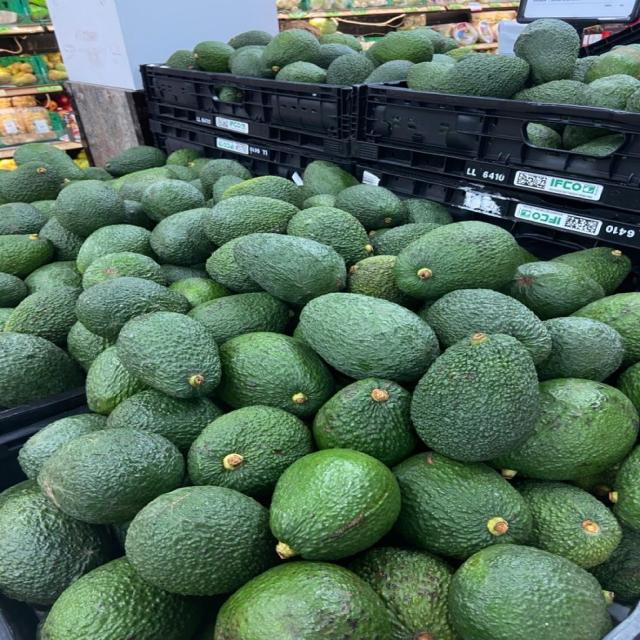avocado: (126, 487, 277, 595), (412, 334, 539, 461), (449, 545, 611, 639), (492, 379, 638, 480), (394, 452, 531, 559), (270, 449, 399, 560), (212, 562, 392, 639), (39, 428, 184, 523), (0, 485, 113, 604), (42, 558, 201, 639), (300, 293, 439, 382), (188, 406, 313, 497), (348, 547, 457, 639), (218, 333, 333, 417), (395, 221, 518, 299), (425, 290, 551, 363), (517, 481, 621, 568), (314, 379, 416, 466), (117, 312, 220, 397), (234, 233, 346, 305), (76, 277, 190, 339), (108, 390, 221, 452), (0, 332, 84, 407), (18, 413, 106, 479), (506, 262, 604, 319), (537, 317, 623, 381), (188, 293, 290, 345), (287, 207, 373, 266), (203, 196, 299, 246), (574, 293, 639, 365), (5, 286, 81, 345), (514, 19, 579, 84), (86, 346, 145, 414), (439, 54, 529, 98), (55, 181, 124, 237), (552, 247, 631, 295), (77, 225, 153, 274), (591, 527, 639, 604), (150, 209, 214, 265), (346, 256, 412, 305), (335, 184, 405, 230), (81, 252, 166, 289), (206, 237, 261, 293), (0, 161, 63, 203), (141, 180, 205, 221), (222, 176, 302, 208), (261, 29, 319, 72), (14, 143, 81, 180), (610, 447, 639, 531), (0, 235, 53, 278), (67, 322, 113, 370), (576, 74, 639, 109), (368, 31, 433, 64), (373, 223, 439, 255), (110, 168, 169, 202), (584, 47, 639, 83), (200, 159, 252, 197), (40, 216, 84, 260), (303, 161, 358, 196), (25, 261, 82, 294), (106, 146, 166, 177), (170, 278, 231, 308), (512, 79, 584, 104), (327, 51, 375, 85), (407, 57, 454, 91), (228, 46, 275, 78), (0, 203, 46, 234), (194, 41, 234, 72), (572, 134, 624, 157), (364, 61, 414, 84), (562, 125, 608, 150), (617, 363, 639, 411), (0, 480, 39, 507), (276, 62, 326, 83), (160, 264, 208, 285), (0, 273, 29, 307), (187, 158, 236, 178), (212, 176, 244, 204), (527, 123, 562, 148), (228, 31, 273, 49), (320, 33, 361, 52), (571, 56, 599, 82), (165, 50, 198, 69), (167, 149, 200, 166), (166, 165, 197, 183), (301, 194, 335, 209), (446, 46, 475, 62), (217, 86, 244, 103), (81, 167, 113, 181), (31, 200, 54, 219), (625, 90, 639, 112), (0, 308, 13, 330)
